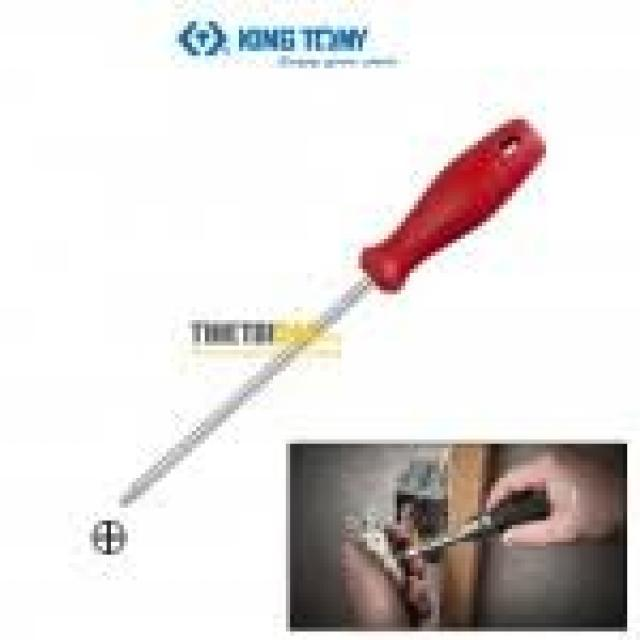screwdriver: (117, 117, 548, 510)
